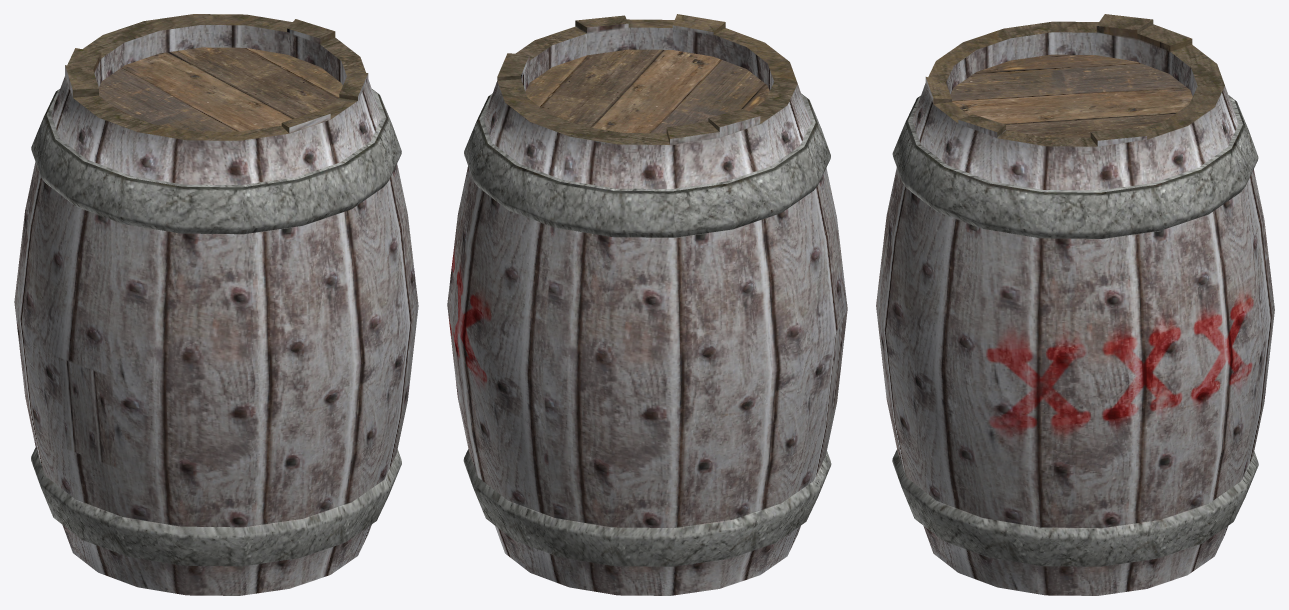
File: Barrel_MoonShine.FBX
3 views of the same model, side by side, from view 1: azimuth 30°, elevation 25°; view 2: azimuth 150°, elevation 25°; view 3: azimuth 270°, elevation 25° (orthographic).
Parts seen in each view (by area): view 1: Barrel005; view 2: Barrel005; view 3: Barrel005.
Part boxes in pixels (x1,y1,x2,y2): Barrel005: (14, 14, 418, 595); Barrel005: (447, 14, 847, 595); Barrel005: (876, 14, 1274, 595).
Bounding box in the file's own units: 1.41 × 1.82 × 1.43.
1 material, 1 textured.
